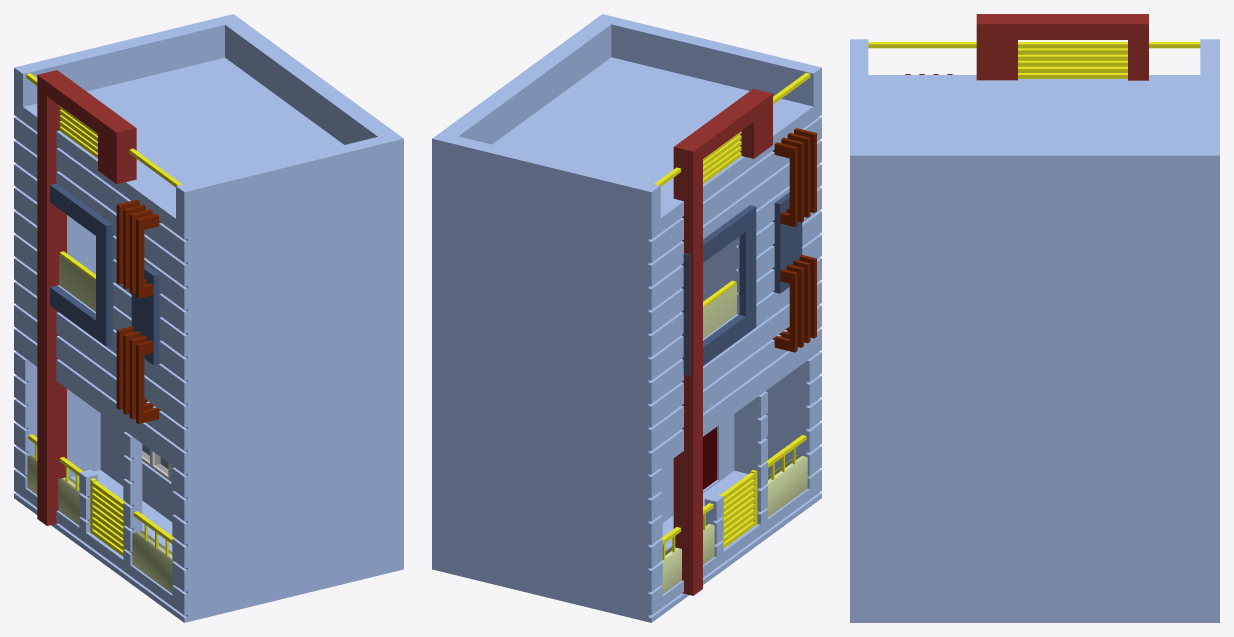
The model's file is building.glb.
3 views of the same model, side by side, from view 1: azimuth 30°, elevation 25°; view 2: azimuth 150°, elevation 25°; view 3: azimuth 270°, elevation 25° (orthographic). The views are drawn at different scales.
Visible parts, largest first — view 1: main building, left desing red, design steel, firstloor cover, terrace steel.004, firtsfloor design cover, wall, wall.001, wall.002, terrace steel; view 2: main building, left desing red, design steel, firstloor cover, terrace steel.004, firtsfloor design cover, wall, wall.001, wall.002, terrace steel, door.001; view 3: main building, left desing red, terrace steel, terrace steel.001.
Boxes of the visible parts, box(x1,y1,x2,y2) form: main building: box(14, 14, 403, 622); left desing red: box(37, 70, 136, 525); design steel: box(116, 199, 160, 423); firstloor cover: box(50, 183, 113, 346); terrace steel.004: box(92, 481, 125, 556); firtsfloor design cover: box(131, 264, 161, 365); wall: box(129, 530, 177, 593); wall.001: box(24, 454, 83, 525); wall.002: box(59, 254, 95, 311); terrace steel: box(59, 106, 97, 158); main building: box(432, 14, 821, 622); left desing red: box(673, 89, 772, 595); design steel: box(772, 128, 816, 352); firstloor cover: box(682, 205, 756, 375); terrace steel.004: box(721, 472, 754, 548); firtsfloor design cover: box(772, 192, 802, 293); wall: box(763, 454, 810, 517); wall.001: box(657, 523, 716, 594); wall.002: box(703, 284, 738, 338); terrace steel: box(703, 131, 741, 183); door.001: box(703, 427, 716, 489); main building: box(850, 39, 1219, 622); left desing red: box(976, 14, 1148, 80); terrace steel: box(1018, 48, 1127, 78); terrace steel.001: box(868, 42, 1200, 48).
Size of the model in its own units: 9.32 by 16.69 by 11.46.
